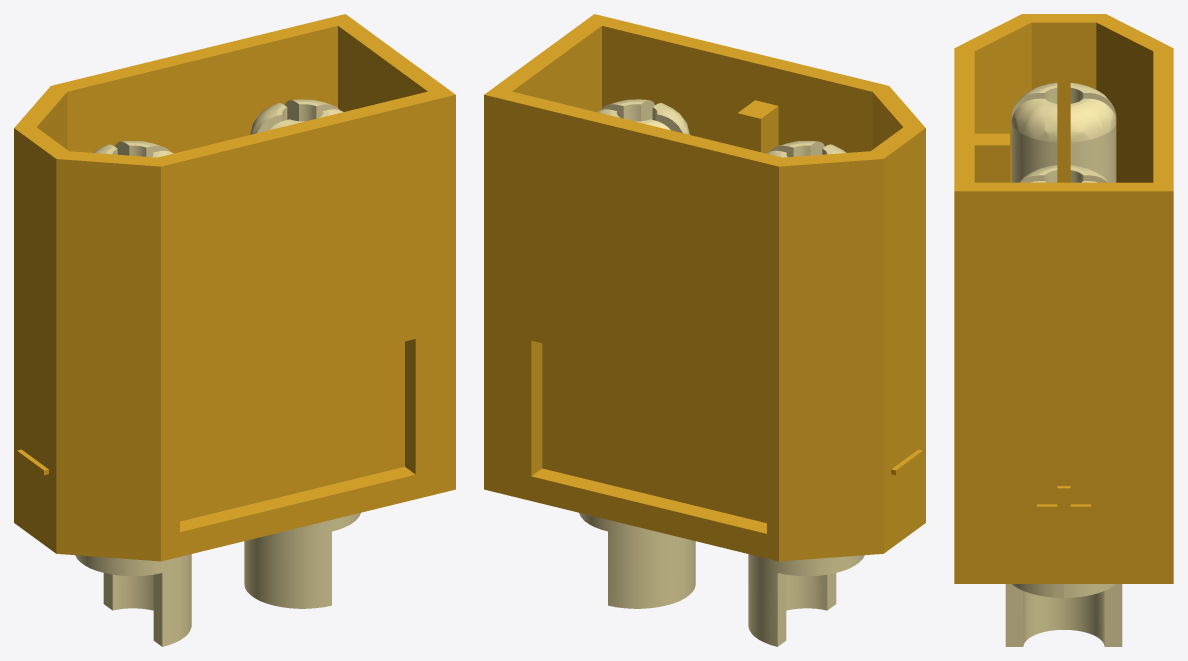
3 views of the same model, side by side, from view 1: azimuth 30°, elevation 25°; view 2: azimuth 150°, elevation 25°; view 3: azimuth 270°, elevation 25° (orthographic).
Bounding box in the file's own units: 15.9 × 20.5 × 8.1.
